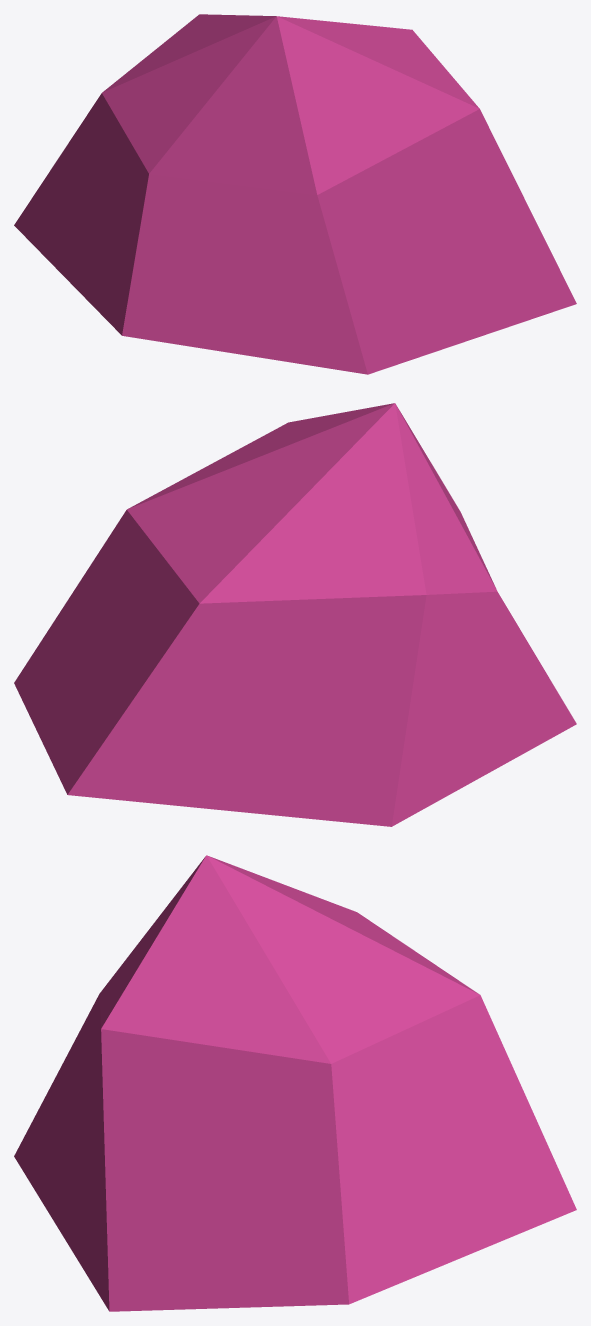
File: Object_top.gltf
The picture shows the model from 3 angles, top to bottom: view 1: azimuth 30°, elevation 25°; view 2: azimuth 150°, elevation 25°; view 3: azimuth 270°, elevation 25°; orthographic projection. The views are drawn at different scales.
Visible parts, largest first — view 1: Plane; view 2: Plane; view 3: Plane.
Part boxes in pixels (box(x1,y1,x2,y2)): Plane: box(14, 14, 576, 374); Plane: box(14, 403, 576, 826); Plane: box(14, 855, 576, 1311).
Bounding box in the file's own units: 4.75 × 3.12 × 4.86.
